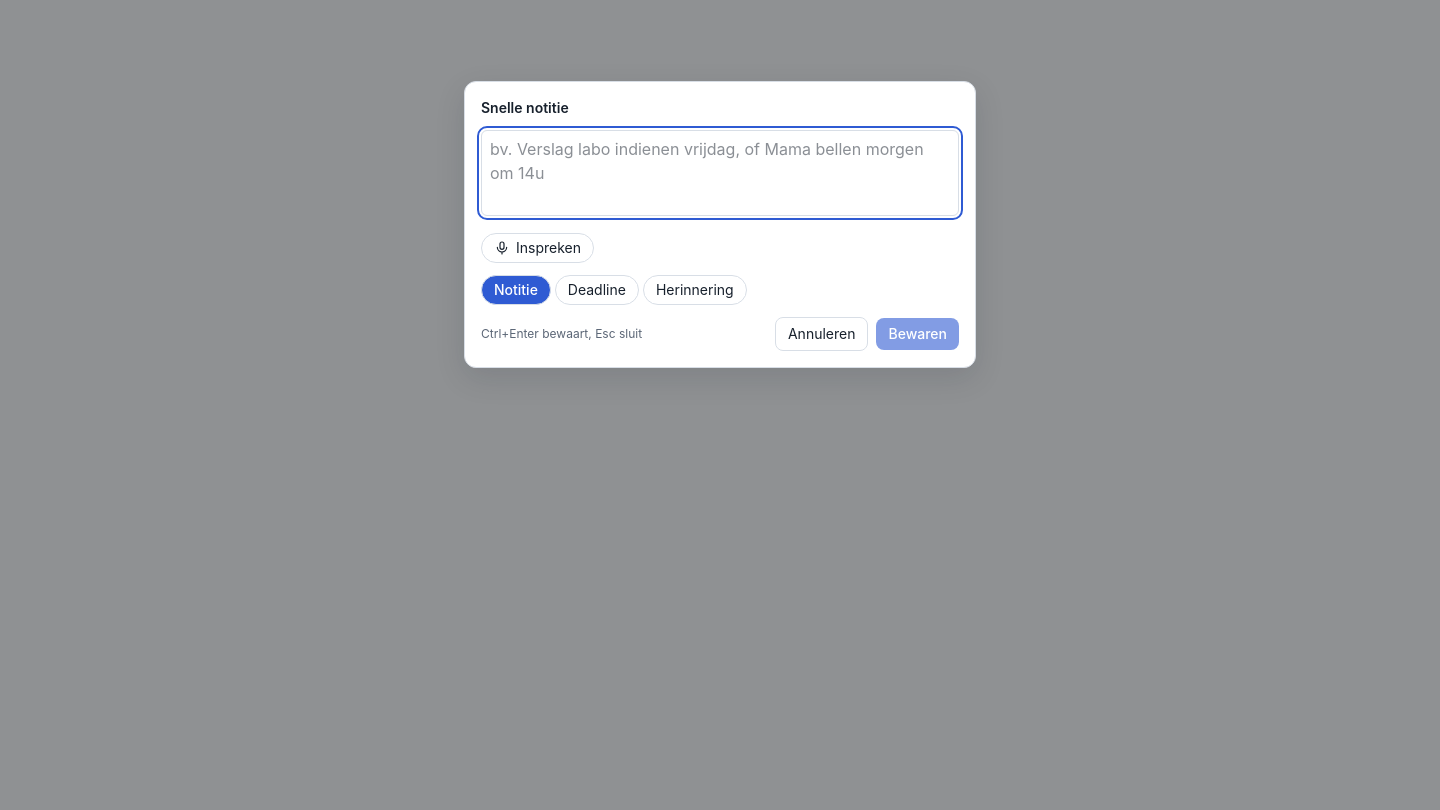
Test: Spraaknotitie › types what you say in Dutch and still guesses the kind
Click the button "Inspreken" at (538, 248), box left=481, top=233, right=594, bottom=263
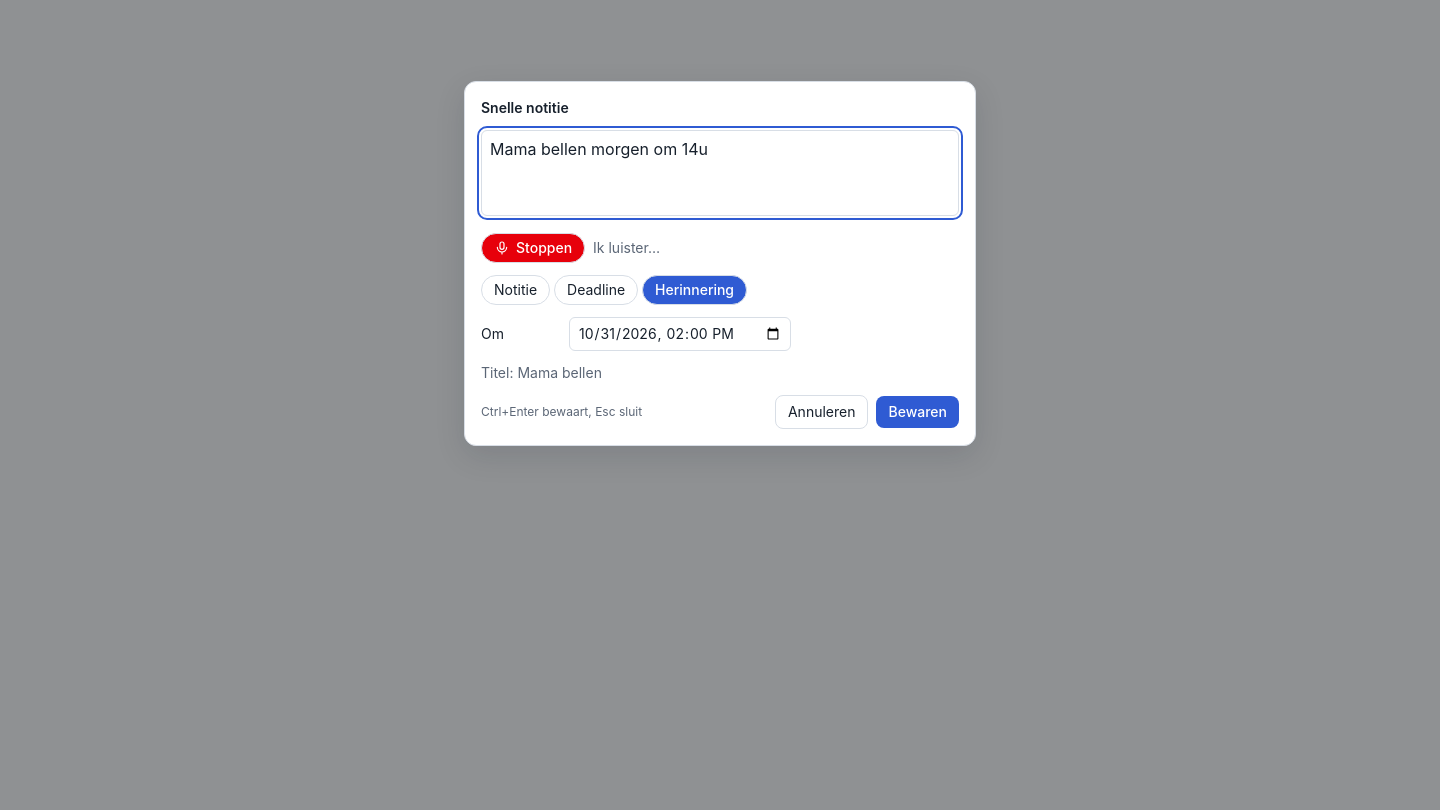
Expected: the text "mama bellen" is shown, left=593, top=239, right=660, bottom=256
Expected: the text box named "Wat wil je bewaren?" holds "Mama bellen morgen om 14u", left=481, top=130, right=959, bottom=216
Click the button "Stoppen" at (533, 248), box left=481, top=233, right=585, bottom=263
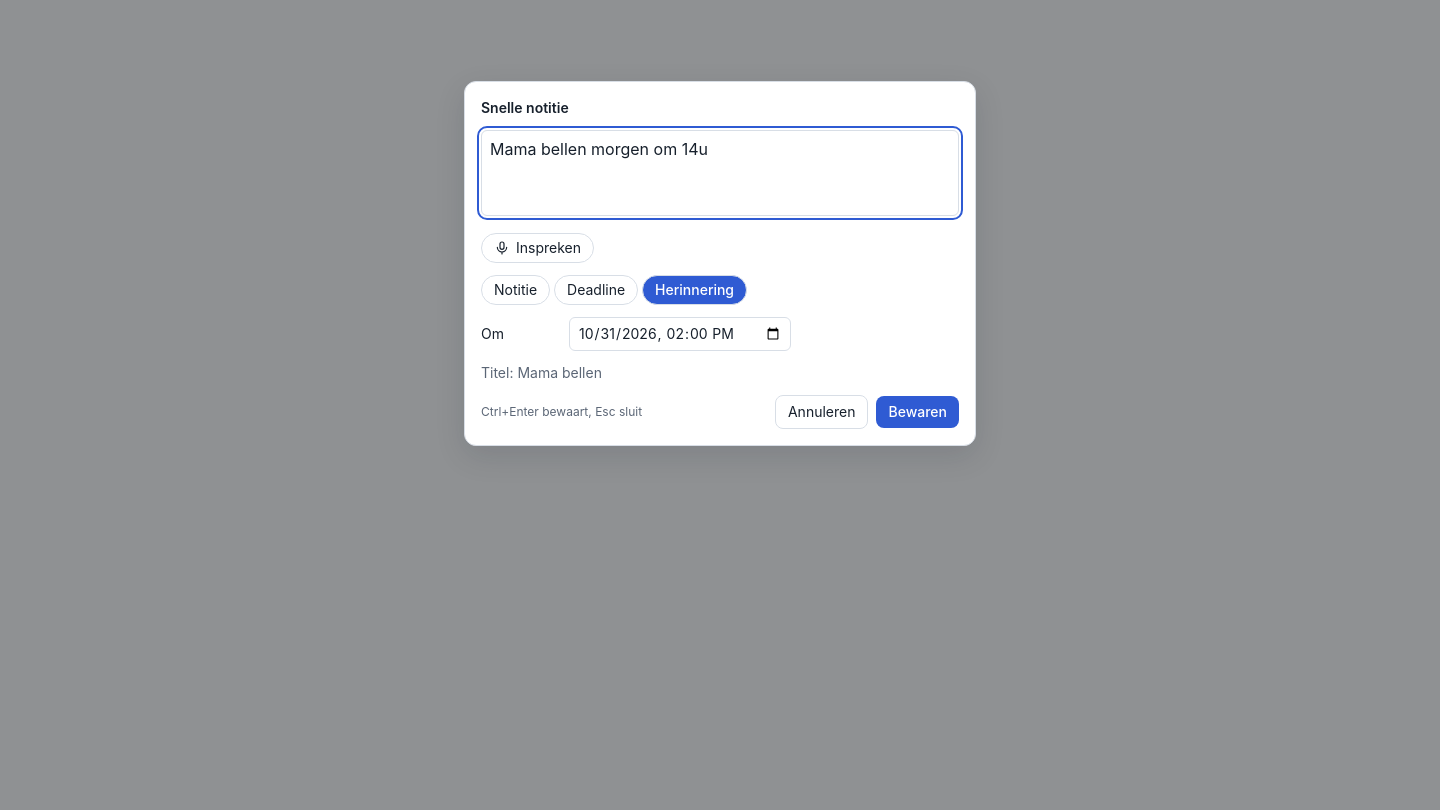
Expected: the button "Inspreken" is shown, left=481, top=233, right=594, bottom=263
